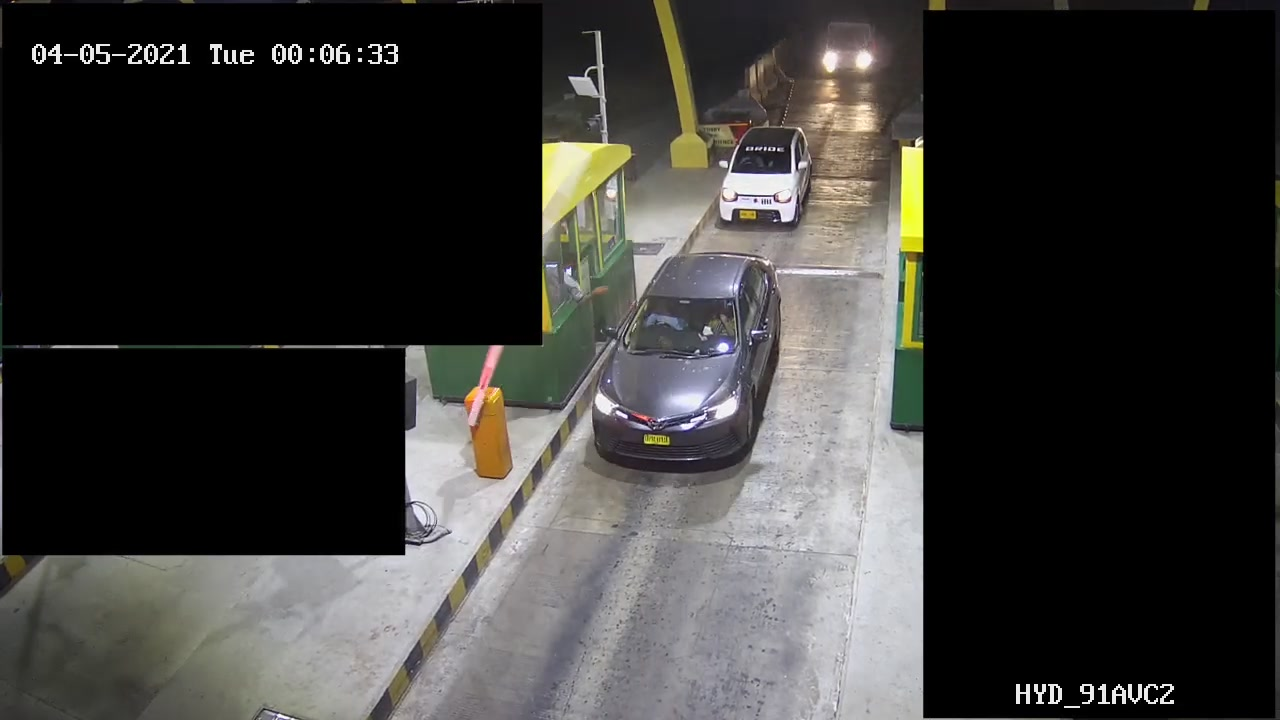F1: (583, 249, 782, 477), (707, 121, 819, 236)
